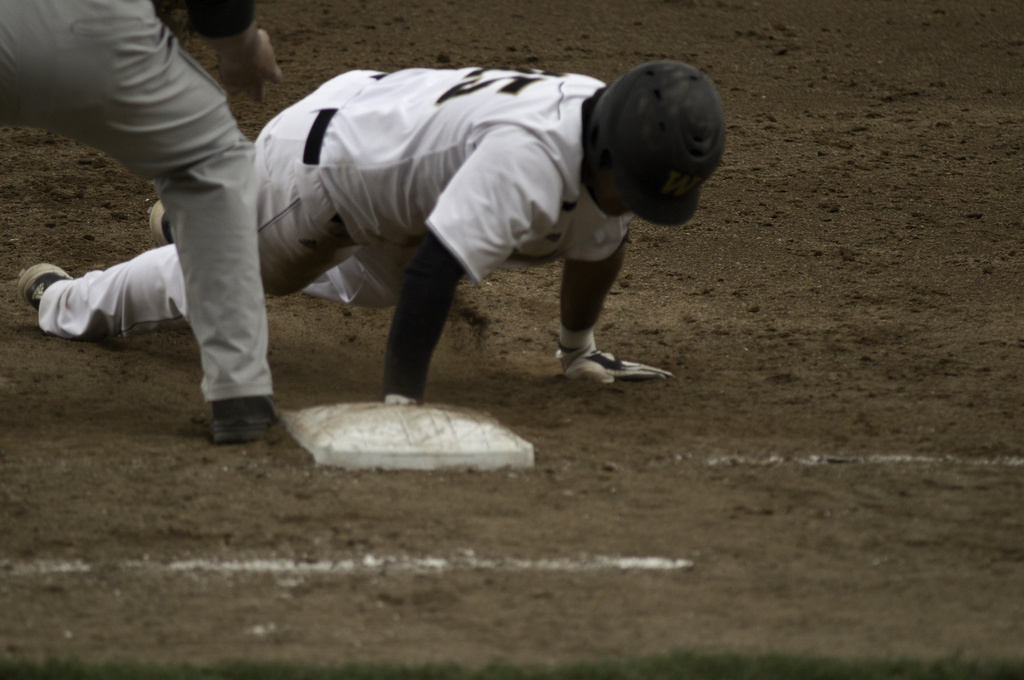face: (583, 133, 714, 214)
person: (17, 56, 723, 352), (1, 6, 280, 449)
